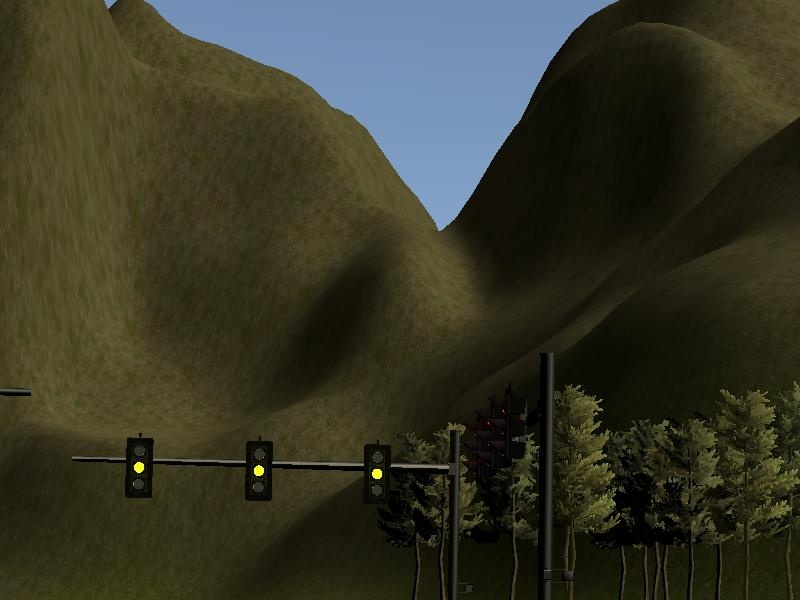YELLOW: (363, 444, 394, 509), (243, 440, 274, 505), (124, 431, 155, 496)
